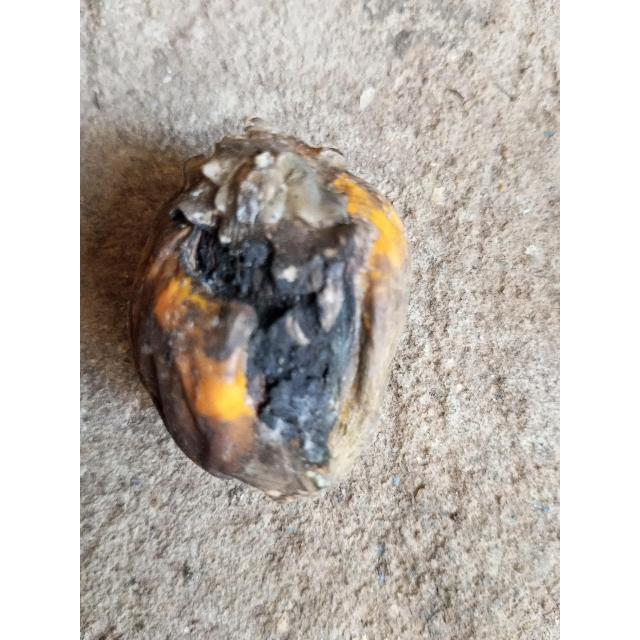damaged: (128, 122, 411, 503)
